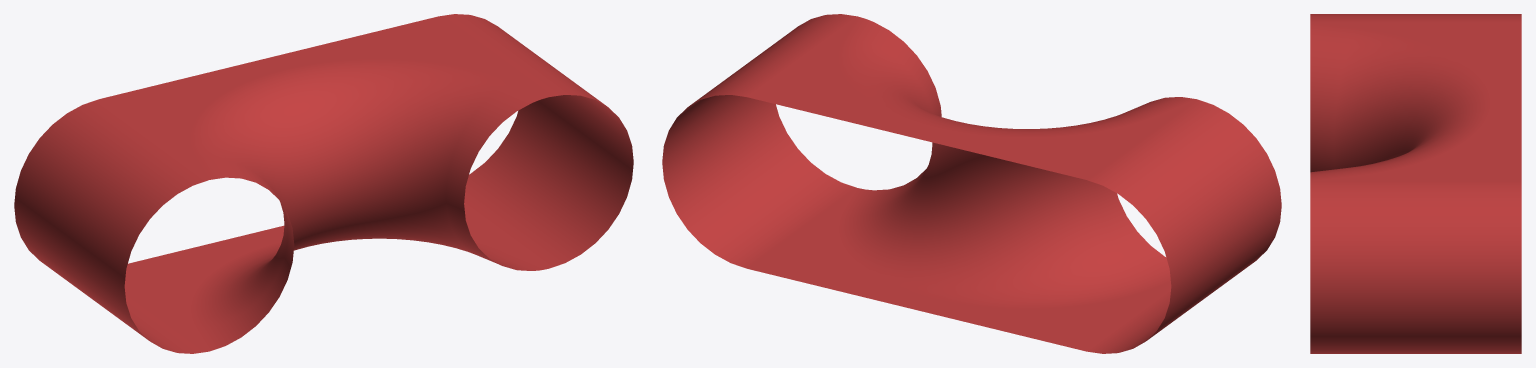
Rendered from 20190731_bridgingTest30radius.obj.
The picture shows the model from 3 angles, left to right: view 1: azimuth 30°, elevation 25°; view 2: azimuth 150°, elevation 25°; view 3: azimuth 270°, elevation 25°; orthographic projection. The views are drawn at different scales.
Size of the model in its own units: 186 by 60 by 70.
